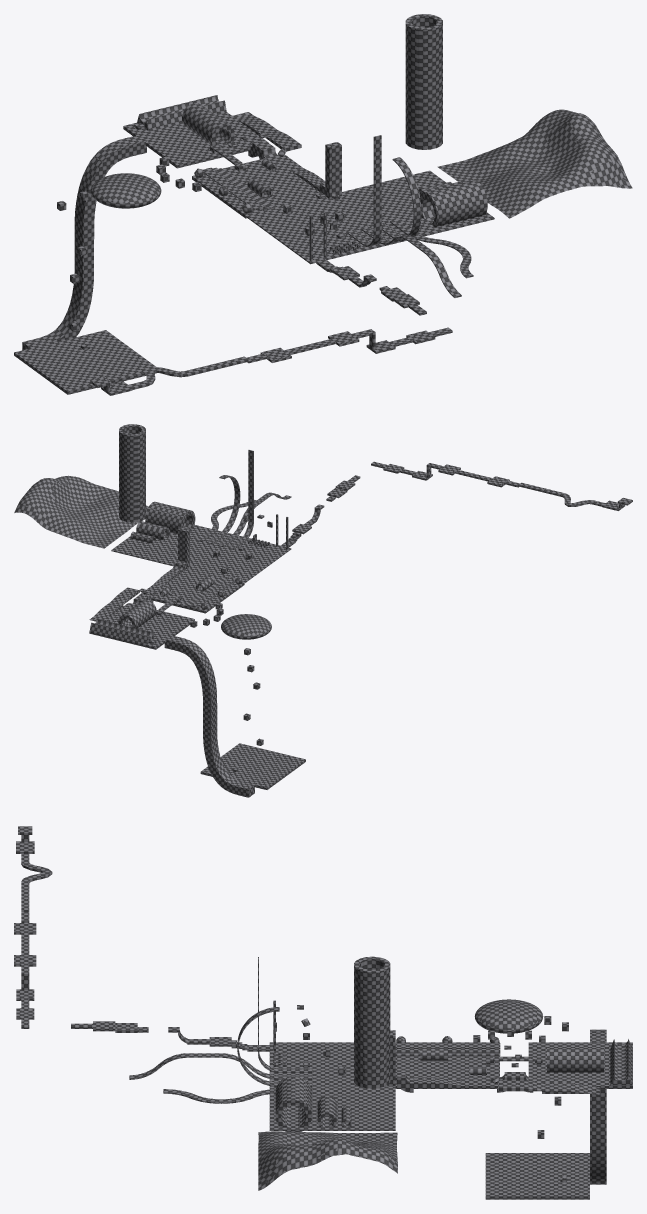
Rendered from Stage.gltf.
3 renders of one model, top to bottom at view 1: azimuth 30°, elevation 25°; view 2: azimuth 150°, elevation 25°; view 3: azimuth 270°, elevation 25°, orthographic. The views are drawn at different scales.
Parts seen in each view (by area): view 1: TestStage-col; view 2: TestStage-col; view 3: TestStage-col.
Part boxes in pixels (bbox=[...]): TestStage-col: bbox=[14, 14, 632, 395]; TestStage-col: bbox=[14, 424, 632, 797]; TestStage-col: bbox=[14, 826, 632, 1199].
Size of the model in its own units: 3408 by 1734 by 2854.
1 material, 1 textured.
